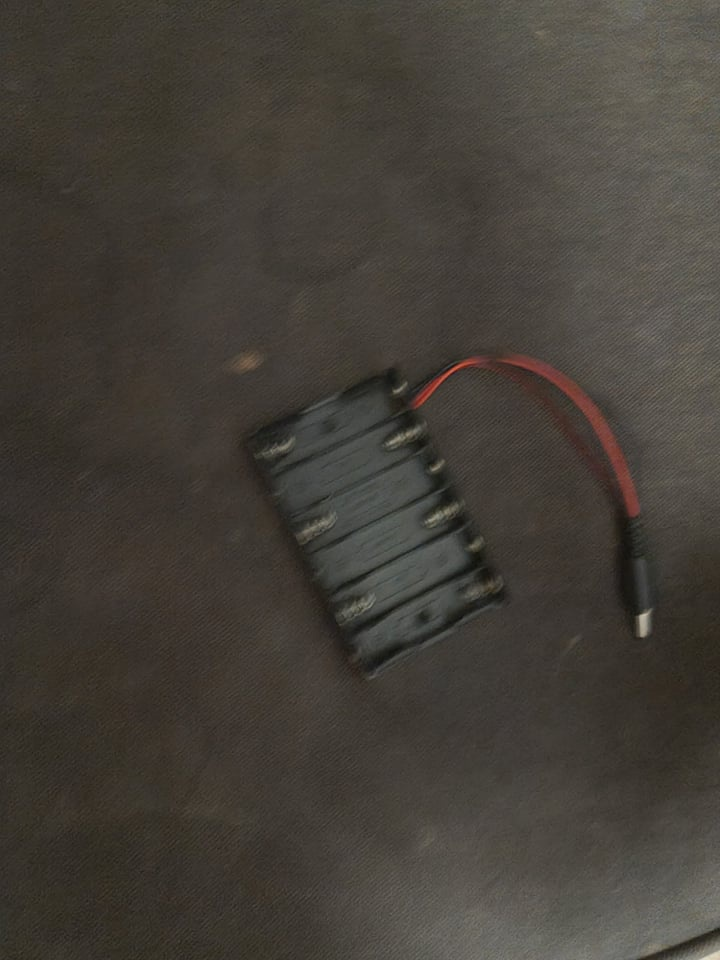BATTERY BOX: (267, 361, 495, 698)
